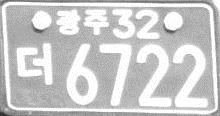2: (172, 43, 209, 110), (135, 43, 172, 108), (134, 7, 160, 40)
3: (111, 6, 136, 40)
6: (64, 42, 98, 106)
7: (97, 41, 133, 106)
광주_O: (55, 8, 110, 36)
더: (15, 42, 53, 88)
